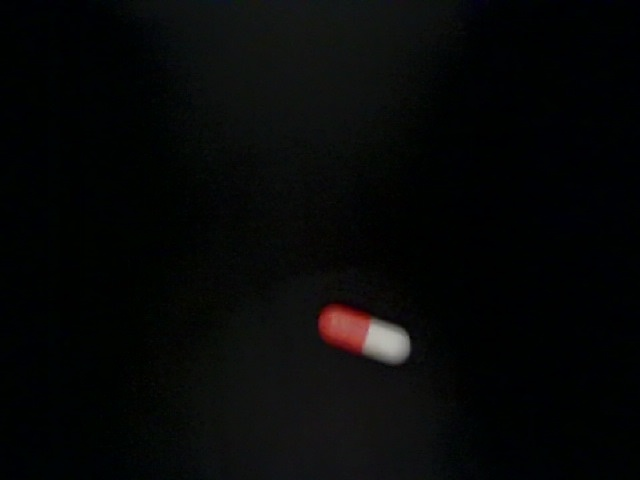YHLJ: (580, 103, 640, 208)
